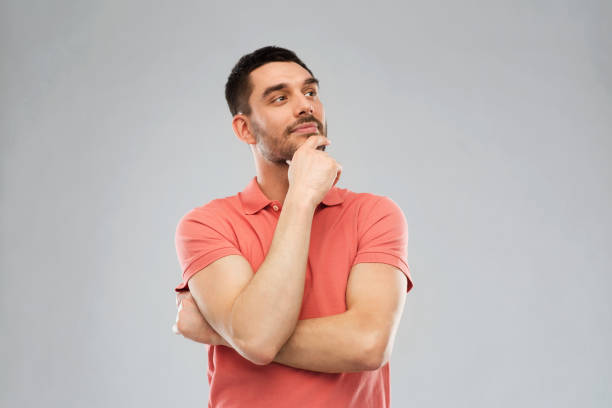without mask: (233, 45, 334, 165)
